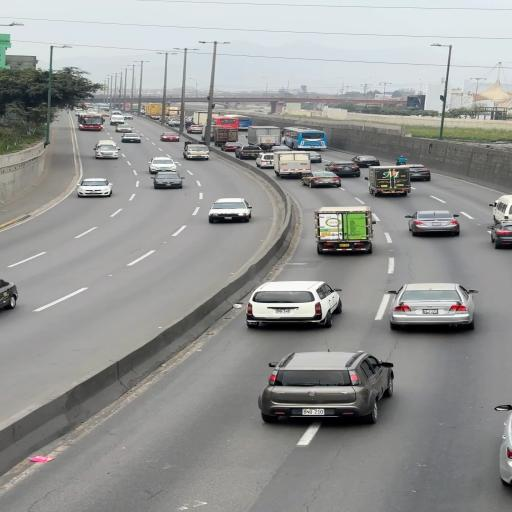auto: (257, 350, 391, 424), (245, 280, 340, 327), (390, 282, 478, 330), (406, 211, 461, 237), (497, 404, 512, 488), (207, 198, 253, 223), (488, 218, 512, 248), (76, 178, 113, 197), (394, 164, 432, 182), (324, 161, 362, 178), (151, 171, 185, 189), (303, 174, 343, 188), (148, 157, 177, 173), (182, 146, 210, 160), (350, 155, 380, 168), (234, 146, 263, 159), (93, 146, 119, 159), (256, 155, 274, 168), (159, 132, 179, 142), (121, 134, 141, 143), (109, 114, 125, 125), (187, 124, 205, 132), (116, 123, 132, 131)
bus: (364, 165, 413, 196), (243, 124, 280, 150), (190, 110, 225, 137), (210, 116, 241, 146), (142, 102, 166, 120), (165, 106, 180, 120), (138, 103, 148, 112), (124, 102, 132, 112)
camion: (397, 156, 408, 166)
moto: (312, 206, 376, 253), (272, 150, 316, 179), (280, 126, 326, 151), (220, 114, 252, 131), (77, 114, 105, 131), (96, 104, 110, 110)
